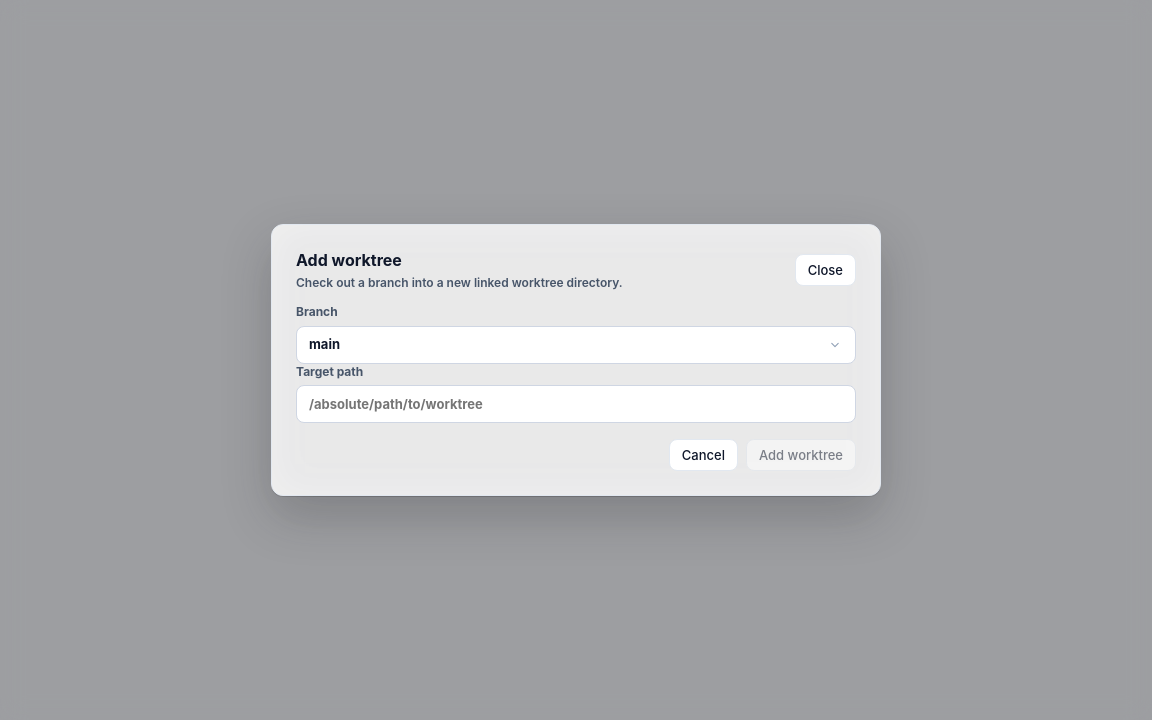
Test: AddWorktreeDialog › previews the command once a branch and path are chosen
This screenshot has width=1152, height=720.
Select "feature" in the dropdown labelled "Branch". click: point(576, 344)
box: [296,326,856,364]
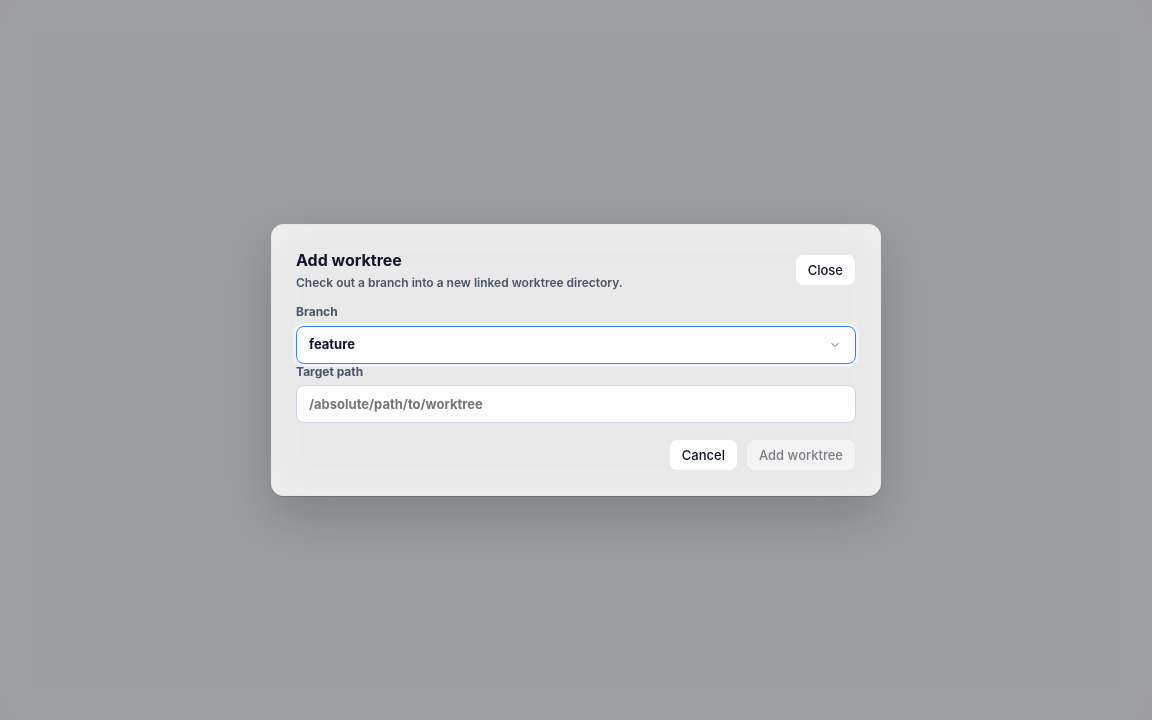
Type "/tmp/wt" into the field labelled "Target path". click: point(576, 404)
box: [296,385,856,423]
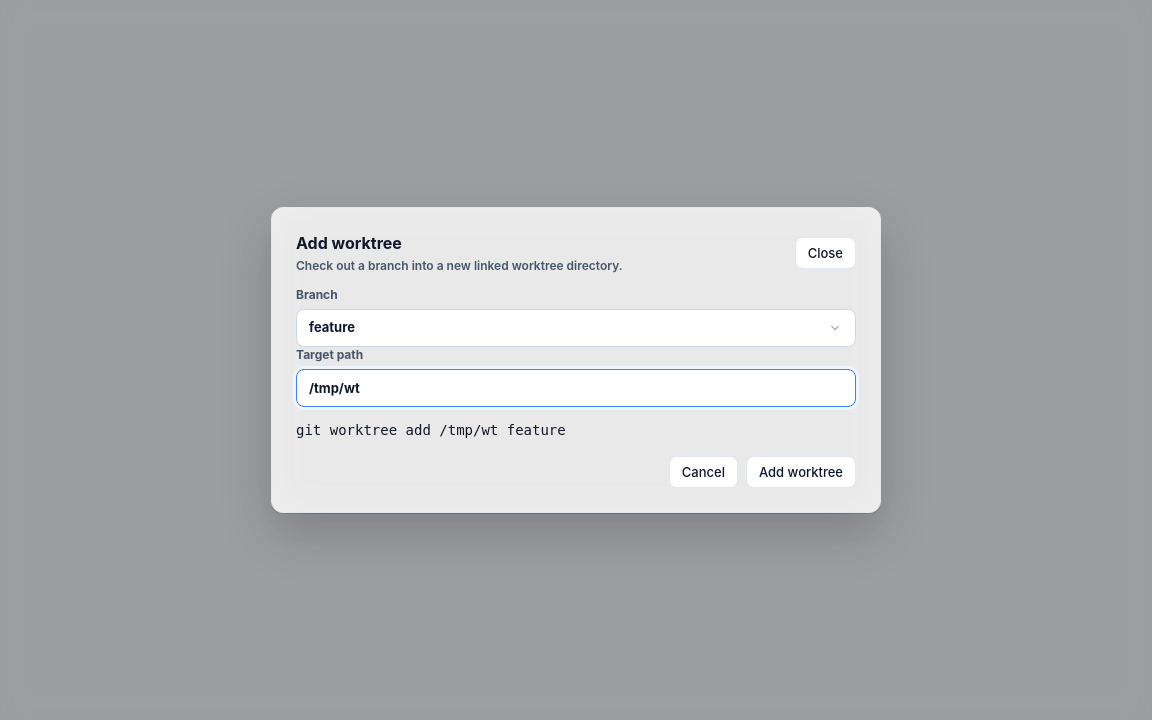
Now the text "git worktree add /tmp/wt feature" is shown, box [296,422,566,438]
